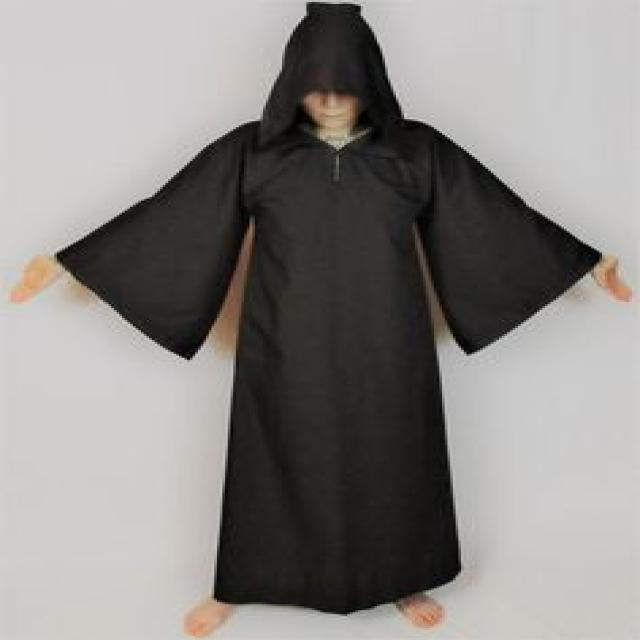4_capucha: (252, 3, 404, 152)
